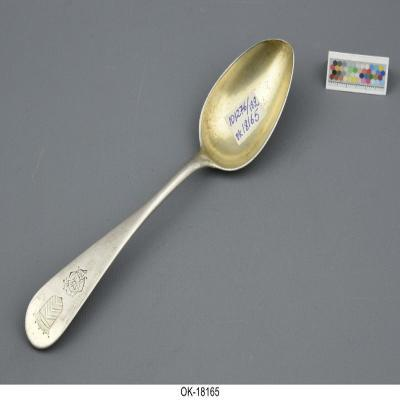dpi: (24, 39, 296, 352)
